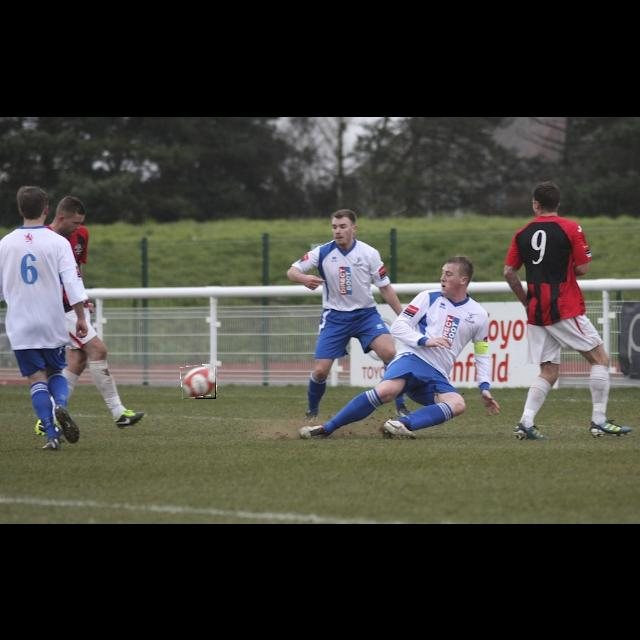Football: (182, 365, 216, 399)
